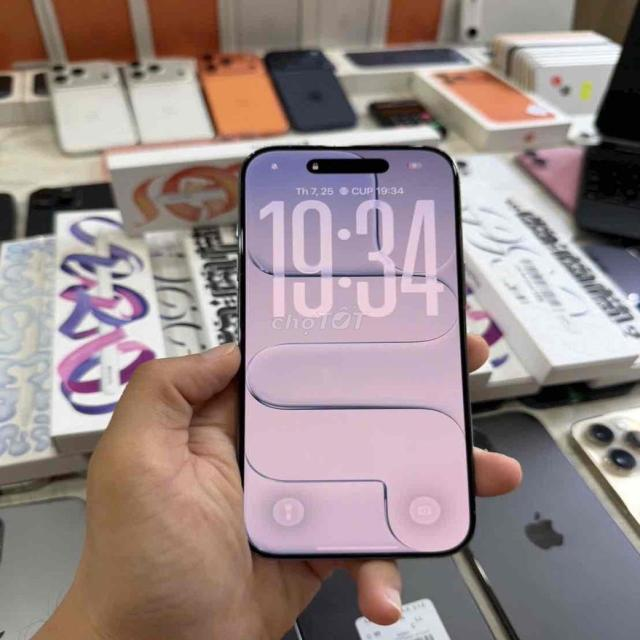gen_17: (233, 136, 481, 562)
